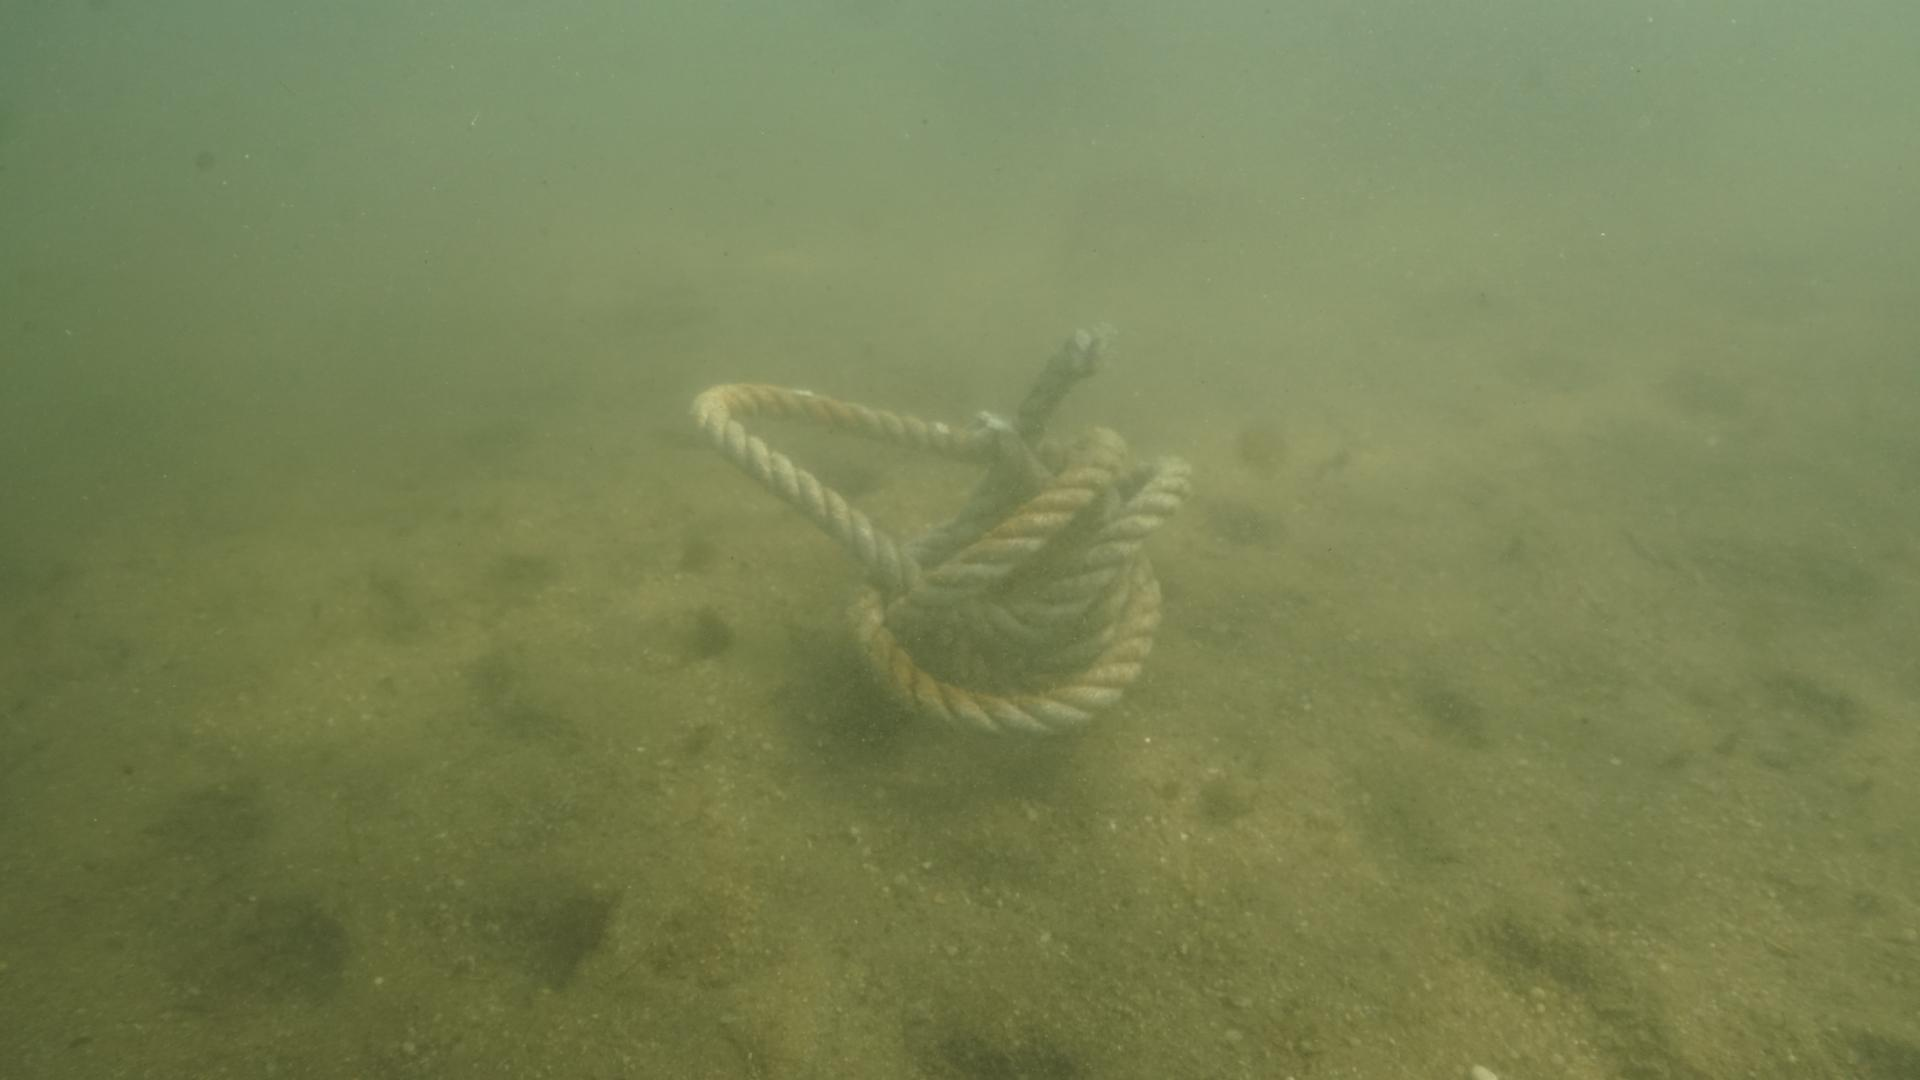bundle of ropes: (690, 315, 1200, 742)
